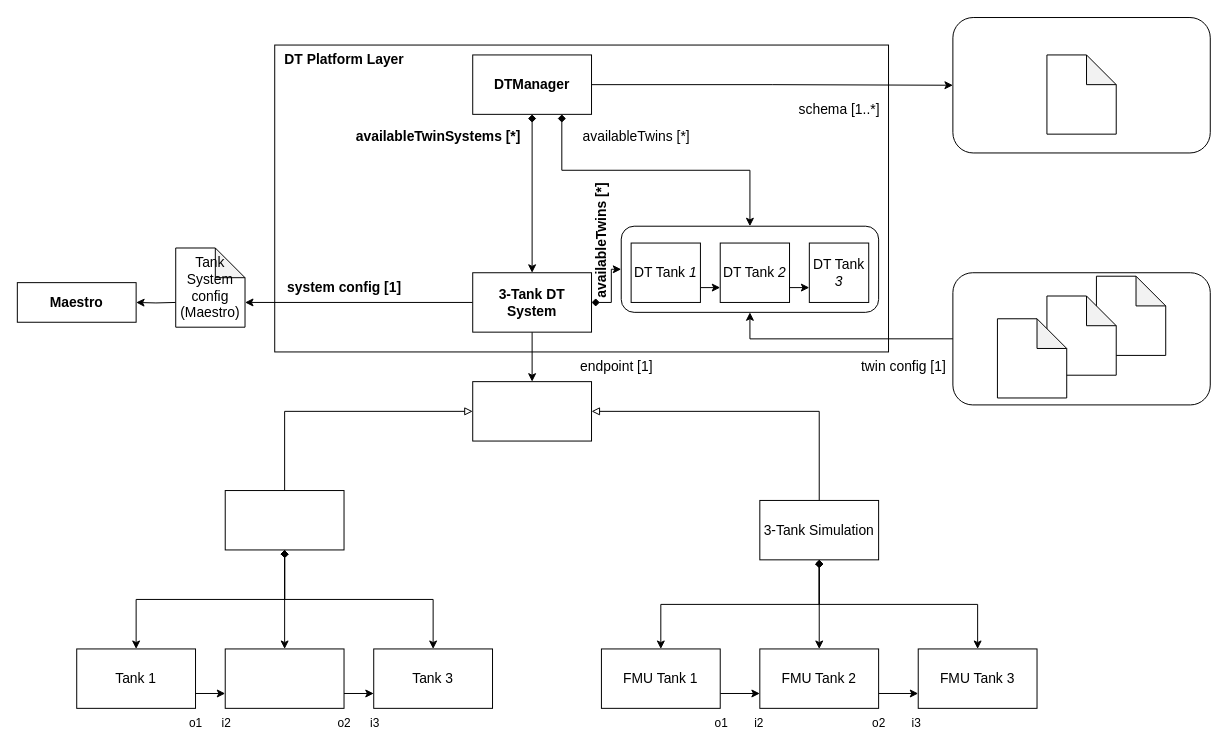
Image size: 1228x755. Some labels were removed from this diagram. Here are the shapes that lost their labels. From the top down, the centre of each, then its label:
At point 1081,94: "Tank Schema (AASX)".
At point 1081,335: "Config Tank 2".
At point 1130,315: "Config Tank 3".
At point 1031,358: "Config Tank 1".
At point 532,411: "Endpoint".
At point 284,520: "3-Tank System".
At point 284,678: "Tank 2".
